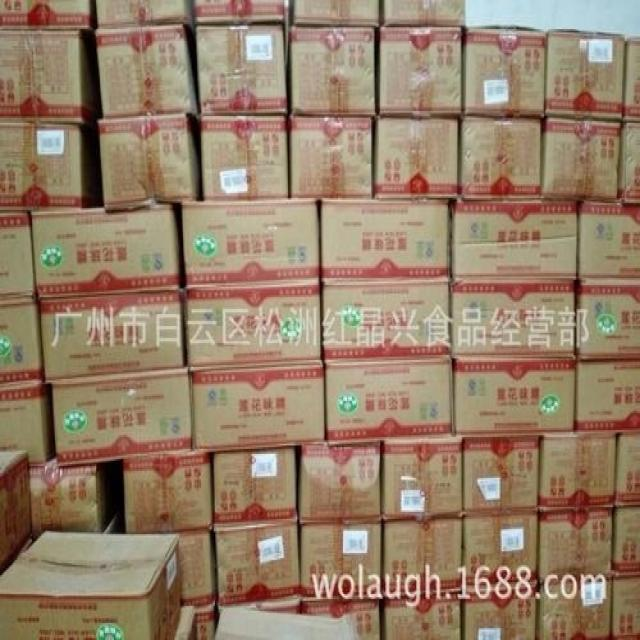box: (0, 510, 180, 640), (32, 186, 187, 300), (37, 290, 189, 382), (49, 369, 193, 466), (180, 195, 324, 290), (189, 365, 329, 451), (183, 285, 325, 369), (324, 358, 452, 447), (323, 195, 452, 283), (99, 108, 204, 212), (451, 200, 579, 285), (321, 280, 451, 360), (0, 116, 101, 213), (449, 283, 579, 358), (451, 357, 576, 435), (0, 29, 101, 125), (99, 22, 201, 111), (196, 19, 291, 114), (378, 24, 470, 118), (115, 445, 211, 532), (200, 111, 291, 200), (289, 24, 380, 113), (545, 31, 627, 125), (463, 29, 548, 119), (211, 524, 300, 608), (374, 114, 462, 198), (210, 445, 298, 529), (288, 113, 375, 196), (381, 435, 463, 521), (460, 119, 545, 200), (31, 456, 116, 536), (541, 118, 623, 200), (298, 442, 381, 522), (462, 435, 541, 519), (298, 521, 383, 597), (538, 432, 618, 512), (383, 517, 462, 594), (460, 515, 540, 589), (536, 510, 613, 585), (576, 278, 640, 362), (579, 198, 640, 283), (1, 381, 56, 466), (576, 360, 640, 432), (461, 582, 543, 638), (539, 580, 613, 638), (381, 589, 463, 638), (0, 449, 32, 573), (300, 594, 384, 637), (0, 210, 36, 307), (1, 302, 42, 387), (178, 532, 216, 609), (193, 0, 292, 26), (95, 0, 193, 26), (292, 0, 383, 27), (381, 0, 465, 29), (613, 430, 640, 510), (612, 510, 640, 575), (612, 575, 640, 638), (620, 121, 639, 205)
